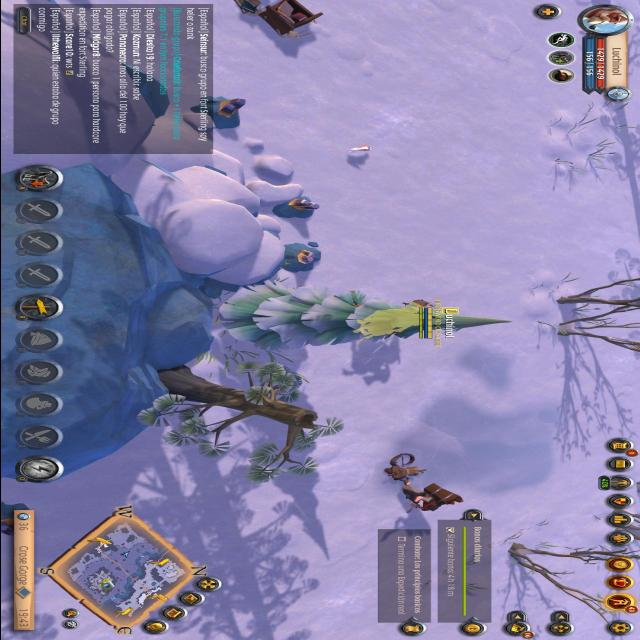piedra_cobre: (198, 96, 240, 128), (278, 242, 319, 272), (272, 198, 318, 218)
